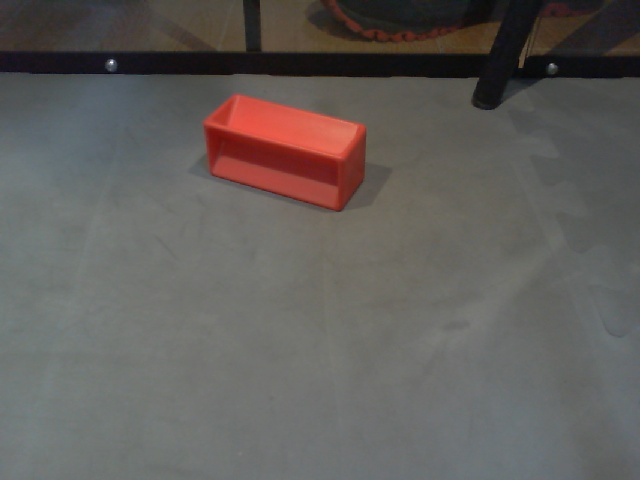RedSample: (201, 91, 368, 212)
